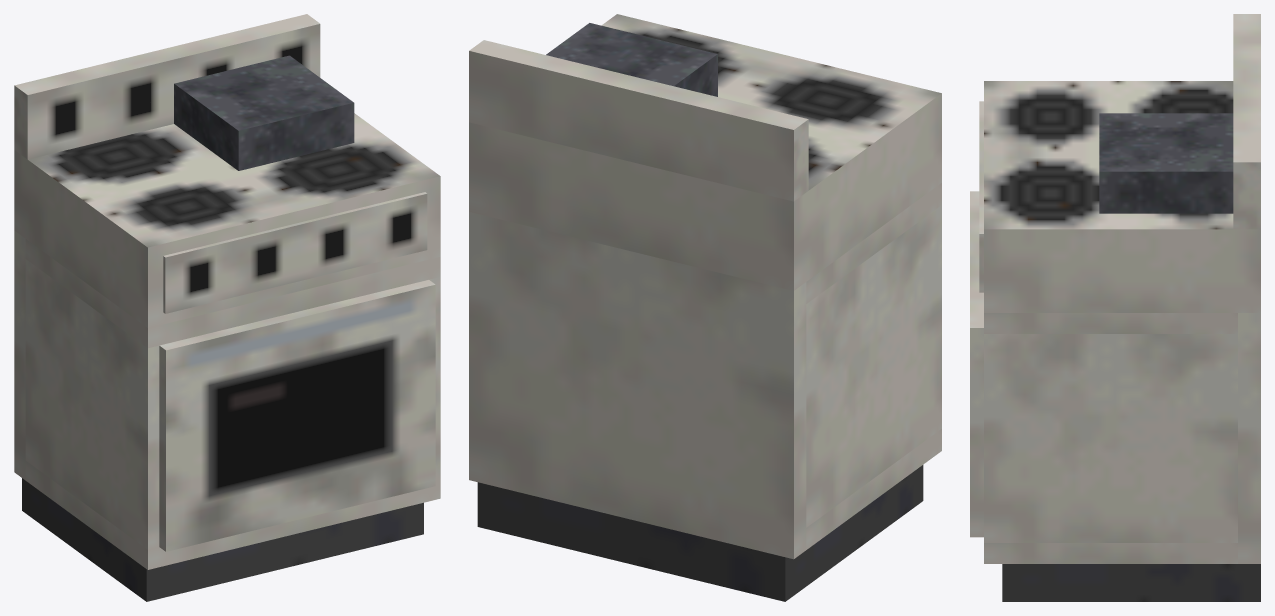
File: stove_white.obj
3 views of the same model, side by side, from view 1: azimuth 30°, elevation 25°; view 2: azimuth 150°, elevation 25°; view 3: azimuth 270°, elevation 25° (orthographic). The views are drawn at different scales.
Visible parts, largest first — view 1: stove_white, stove_white_door; view 2: stove_white; view 3: stove_white, stove_white_door.
Part boxes in pixels (bbox=[...]): stove_white: bbox=[14, 14, 440, 601]; stove_white_door: bbox=[159, 280, 435, 551]; stove_white: bbox=[469, 14, 941, 601]; stove_white: bbox=[979, 14, 1260, 601]; stove_white_door: bbox=[970, 191, 983, 537].
Bounding box in the file's own units: 0.76 × 1.06 × 0.63.
Materials: 1 (1 with a texture image).
